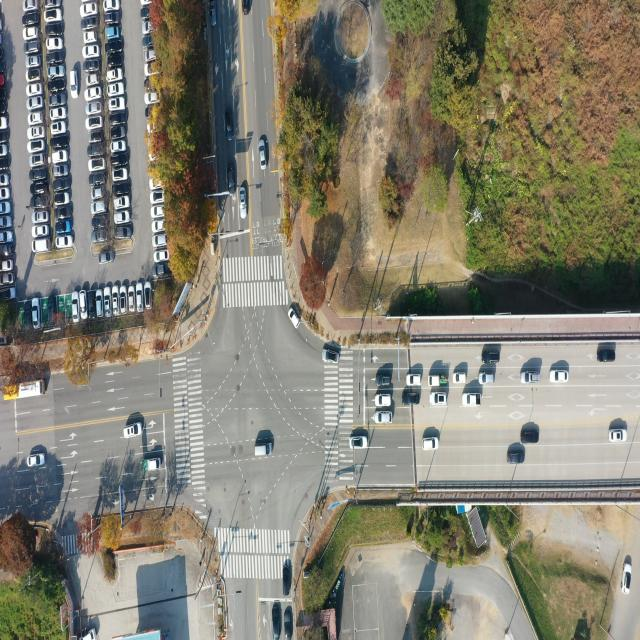car: (521, 372, 541, 386), (273, 605, 281, 640), (224, 109, 233, 140), (125, 424, 143, 439), (284, 608, 292, 640), (283, 564, 291, 596), (256, 444, 273, 459), (32, 240, 50, 254), (28, 454, 46, 468), (597, 350, 615, 364), (288, 309, 300, 330), (508, 452, 526, 466), (522, 430, 540, 444), (70, 72, 79, 100), (482, 351, 500, 365), (624, 565, 632, 596), (322, 350, 338, 365), (32, 300, 40, 330), (258, 140, 266, 170), (422, 439, 439, 453), (49, 66, 66, 80), (462, 393, 479, 407), (49, 52, 66, 66), (153, 264, 170, 278), (350, 438, 368, 451), (551, 371, 569, 384), (71, 292, 79, 321), (79, 292, 87, 321), (48, 295, 56, 324), (111, 169, 127, 183), (612, 429, 628, 443), (29, 140, 45, 154), (110, 128, 126, 142), (108, 54, 124, 68), (110, 112, 126, 126), (112, 182, 128, 196), (376, 413, 393, 426), (429, 393, 446, 406), (57, 237, 74, 250), (90, 160, 107, 173), (44, 9, 61, 22), (56, 220, 73, 233), (240, 189, 247, 220), (24, 301, 32, 328), (28, 98, 43, 112), (87, 88, 102, 102), (83, 2, 98, 16), (108, 85, 124, 98), (109, 99, 125, 112), (32, 212, 48, 225), (51, 95, 67, 108), (55, 178, 71, 191), (88, 116, 104, 129), (104, 11, 120, 24), (24, 12, 40, 25), (88, 102, 104, 115), (31, 198, 47, 211), (0, 287, 16, 300), (404, 393, 421, 405), (45, 26, 62, 38), (110, 156, 127, 168), (106, 41, 123, 53), (210, 0, 218, 25), (136, 283, 143, 311), (104, 288, 111, 316), (228, 167, 235, 195), (54, 150, 69, 163), (377, 394, 392, 407), (108, 69, 123, 82), (377, 376, 392, 389), (56, 192, 71, 205), (90, 144, 105, 157), (52, 108, 68, 120), (480, 374, 496, 386), (46, 38, 62, 50), (114, 229, 130, 241), (104, 0, 120, 12), (113, 199, 129, 211), (33, 225, 49, 237), (30, 156, 46, 168), (31, 170, 47, 182), (28, 128, 44, 140), (49, 78, 65, 90), (54, 138, 70, 150), (80, 628, 96, 640), (119, 286, 126, 313), (112, 287, 119, 314), (114, 212, 128, 225), (58, 208, 72, 221), (90, 131, 104, 144), (53, 124, 68, 136), (27, 86, 42, 98), (408, 375, 423, 387), (105, 28, 120, 40), (24, 0, 39, 12), (110, 141, 125, 153), (55, 166, 70, 178), (24, 28, 39, 40), (91, 174, 106, 186), (140, 7, 152, 22), (86, 61, 102, 72), (0, 233, 13, 246), (153, 236, 166, 249), (85, 31, 98, 44), (150, 192, 164, 204), (453, 374, 467, 386), (92, 203, 106, 215), (100, 252, 114, 264), (86, 45, 100, 57), (29, 113, 43, 125), (27, 69, 41, 81), (90, 291, 96, 319), (82, 16, 96, 28), (25, 42, 39, 54), (32, 184, 47, 195), (97, 289, 103, 316), (145, 282, 151, 309), (129, 285, 135, 312), (156, 250, 169, 262), (145, 94, 158, 106), (94, 232, 106, 245), (1, 274, 14, 286), (27, 57, 40, 69), (88, 74, 101, 86), (0, 217, 12, 229), (1, 262, 13, 274), (151, 207, 163, 219), (152, 220, 164, 232), (0, 203, 11, 216), (149, 179, 162, 190), (143, 64, 157, 74), (145, 77, 153, 94), (0, 131, 9, 146), (92, 188, 104, 199), (145, 52, 156, 64), (142, 23, 152, 36), (93, 218, 106, 228), (0, 156, 9, 170), (0, 188, 10, 200), (0, 175, 10, 187), (45, 0, 60, 8), (242, 0, 250, 15), (0, 117, 8, 131), (143, 37, 153, 48), (0, 145, 8, 158), (0, 87, 6, 101), (141, 0, 152, 7), (0, 100, 6, 112), (0, 60, 6, 72), (0, 74, 5, 86), (0, 46, 3, 58)
large_bus: (8, 380, 46, 401)
small_truck: (143, 458, 162, 471), (428, 375, 446, 388), (0, 243, 13, 260)
